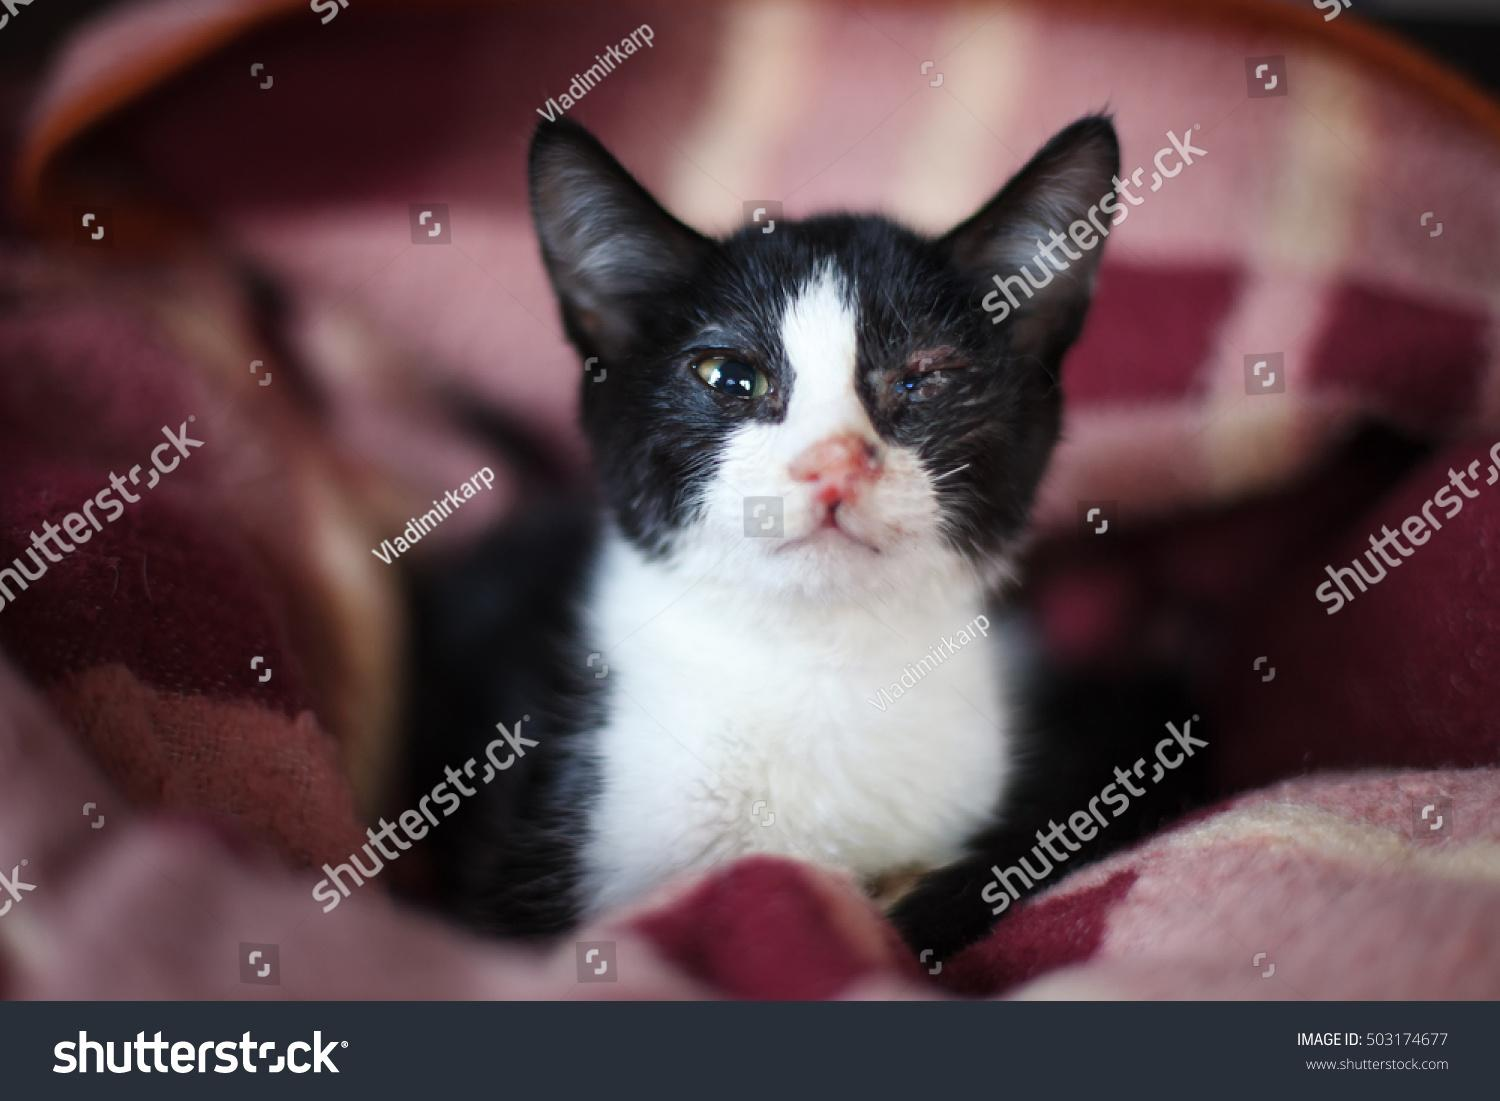eye_infection: (688, 341, 781, 409), (901, 348, 964, 402)
